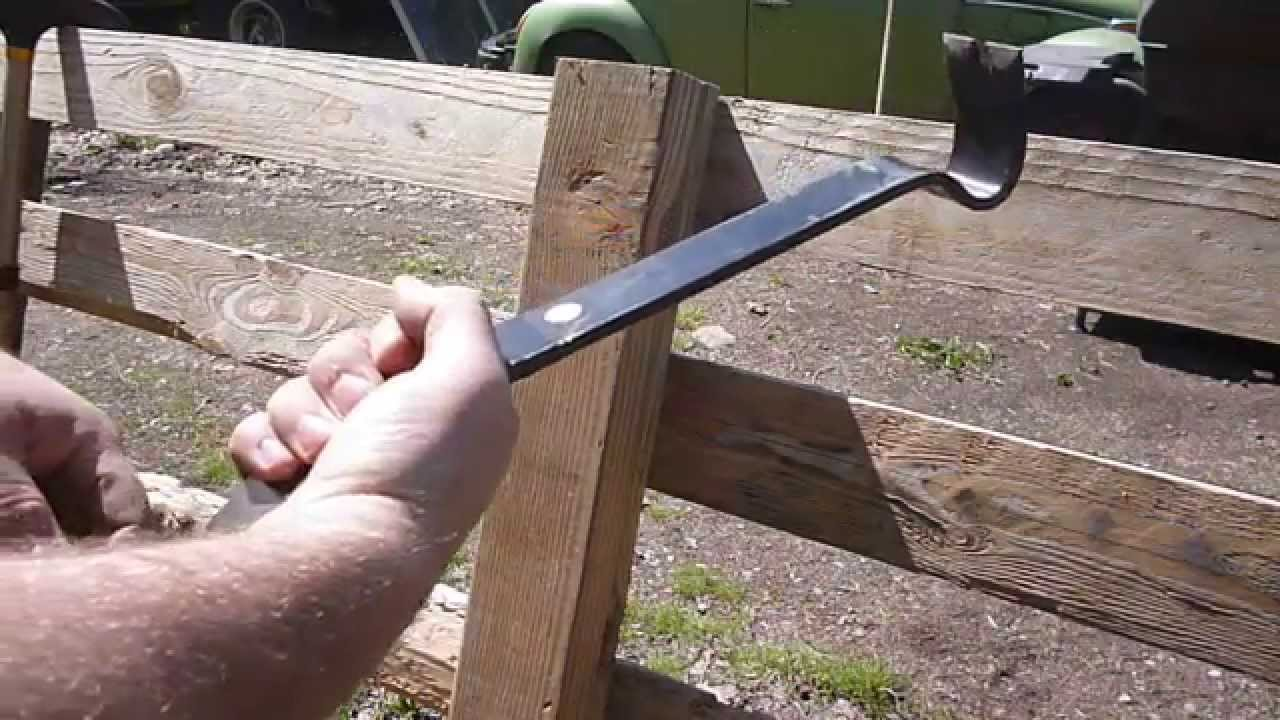crowbar: (479, 10, 1031, 384)
